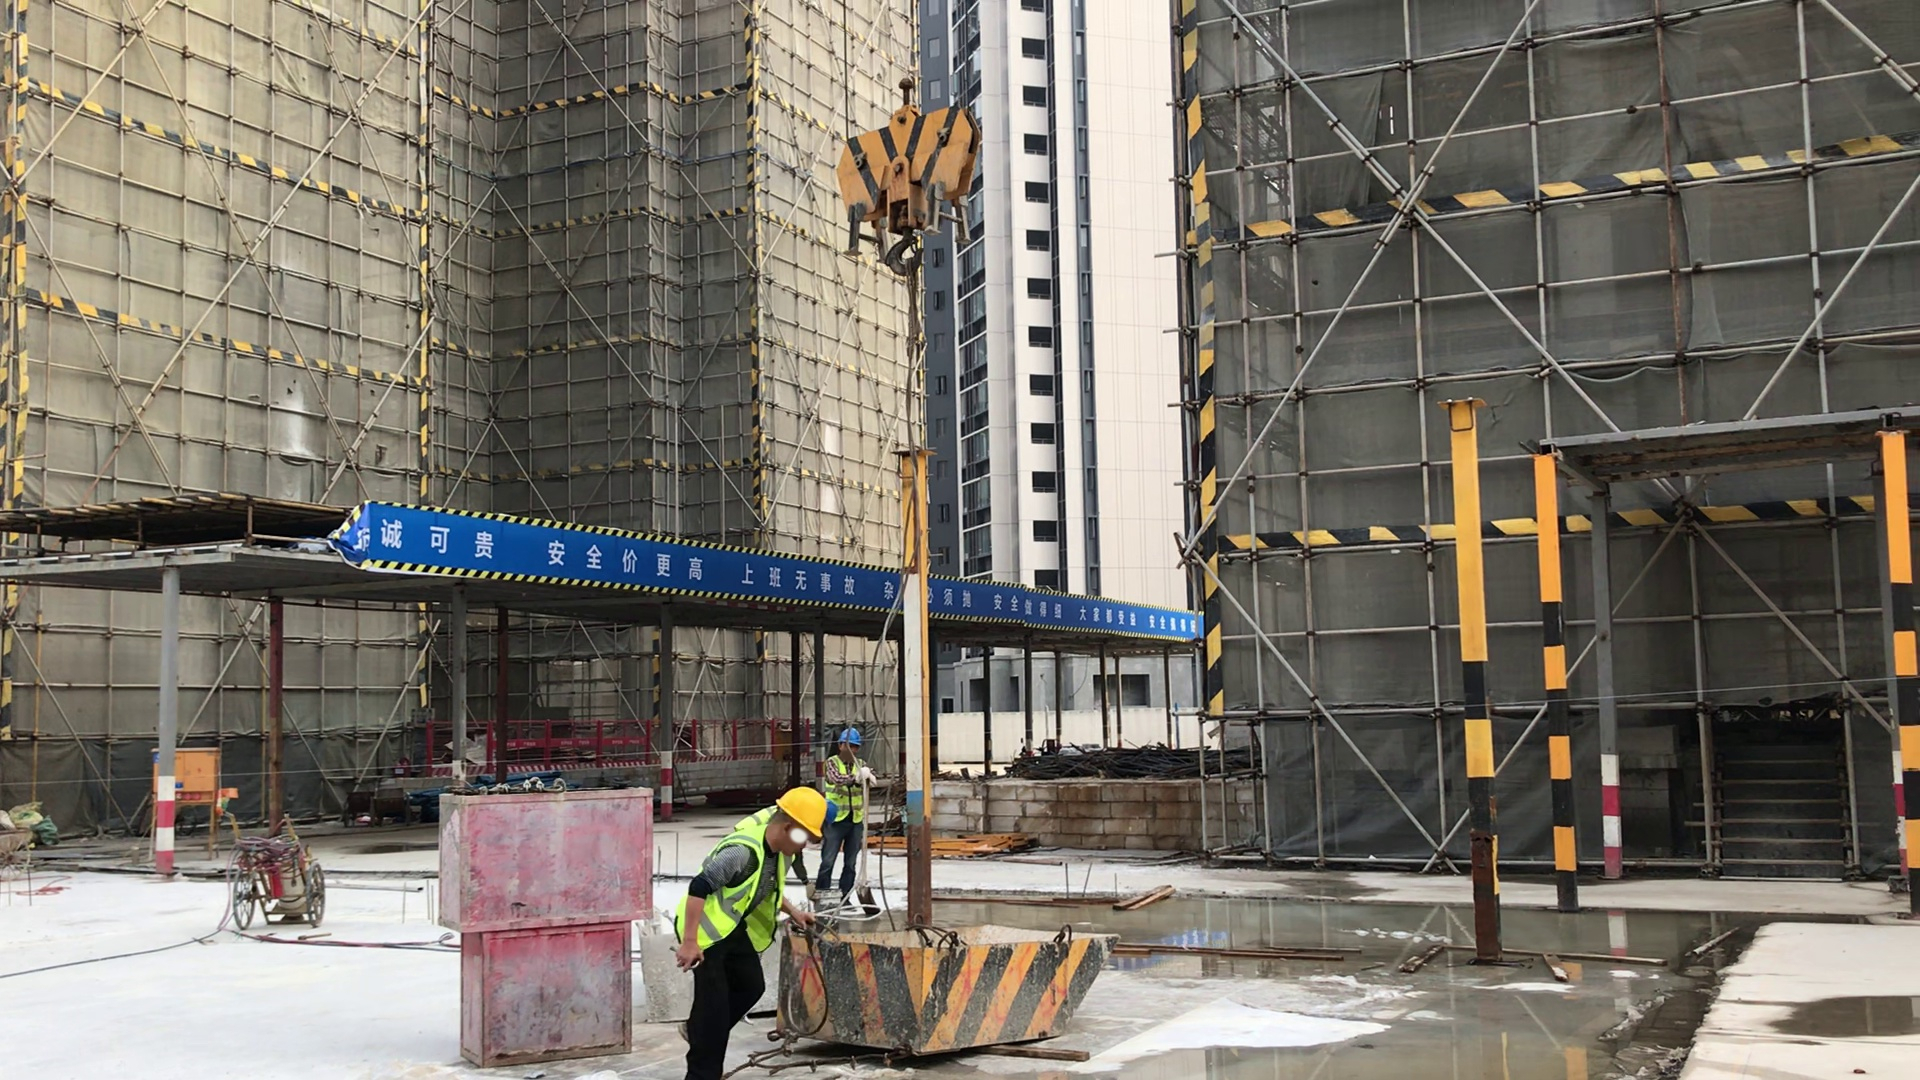ebox: (176, 741, 228, 864)
fence: (374, 501, 885, 613), (929, 579, 1193, 641), (518, 715, 650, 768), (691, 717, 789, 762)
handcart: (217, 804, 329, 932), (1, 824, 40, 880)
helmet: (776, 787, 828, 840), (835, 729, 862, 748)
hook: (821, 67, 984, 271)
hopper: (782, 919, 1124, 1063)
person: (668, 785, 829, 1080), (816, 725, 876, 912)
vest: (673, 825, 782, 956), (824, 753, 868, 825)
